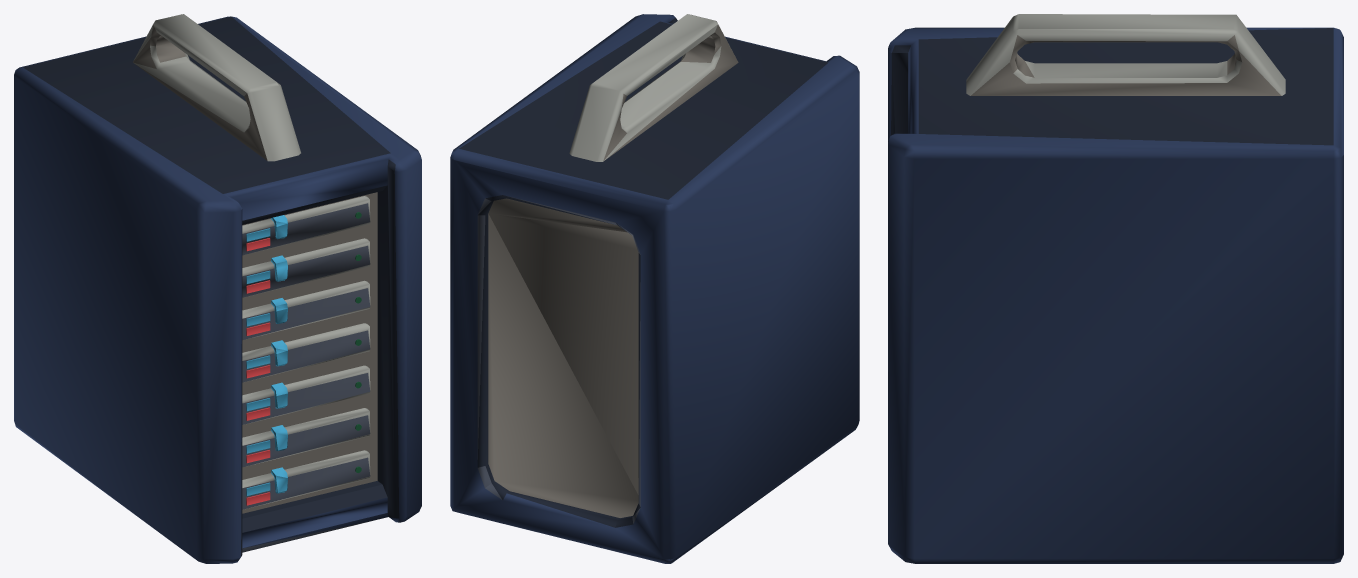
Rendered from server_model.glb.
3 views of the same model, side by side, from view 1: azimuth 30°, elevation 25°; view 2: azimuth 150°, elevation 25°; view 3: azimuth 270°, elevation 25° (orthographic). The views are drawn at different scales.
Parts seen in each view (by area): view 1: server; view 2: server; view 3: server.
Boxes of the visible parts, x1,y1,x2,y2 form: server: (14,14,421,563); server: (450,14,859,563); server: (888,14,1343,563).
Size of the model in its own units: 0.135 by 0.2463 by 0.2063.
Materials: 2 (1 with a texture image).
